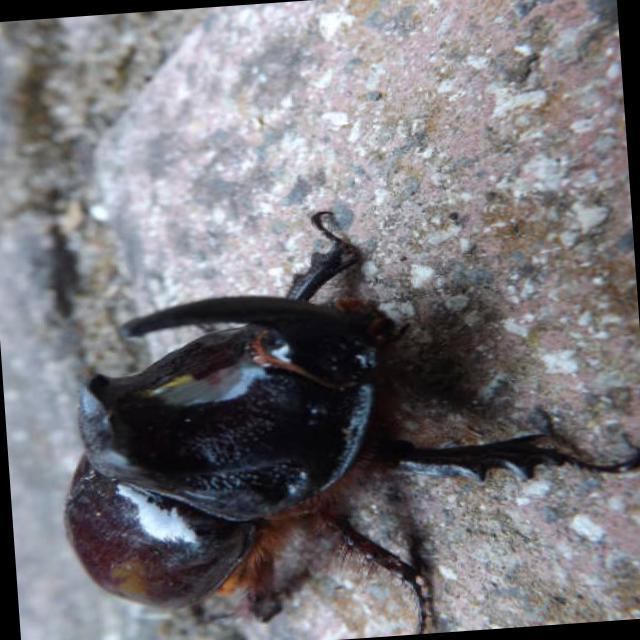Rhino-beetle: (49, 252, 502, 608)
